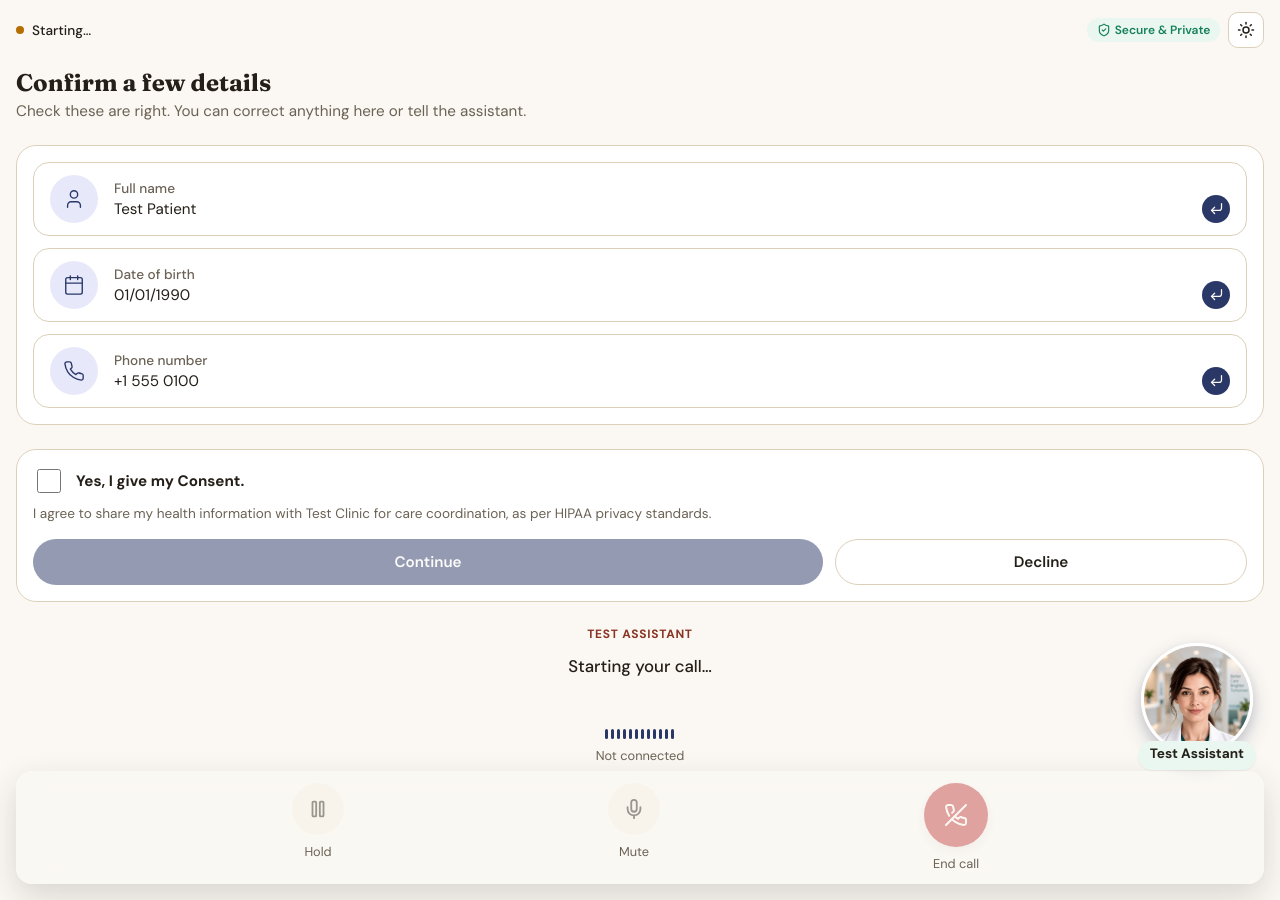
Test case: ConfirmDetails › keeps the patient on this step and explains when consent cannot be recorded
This screenshot has width=1280, height=900.
Click the checkbox labelled "Yes, I give my Consent.": (49, 481) [37,469,61,493]
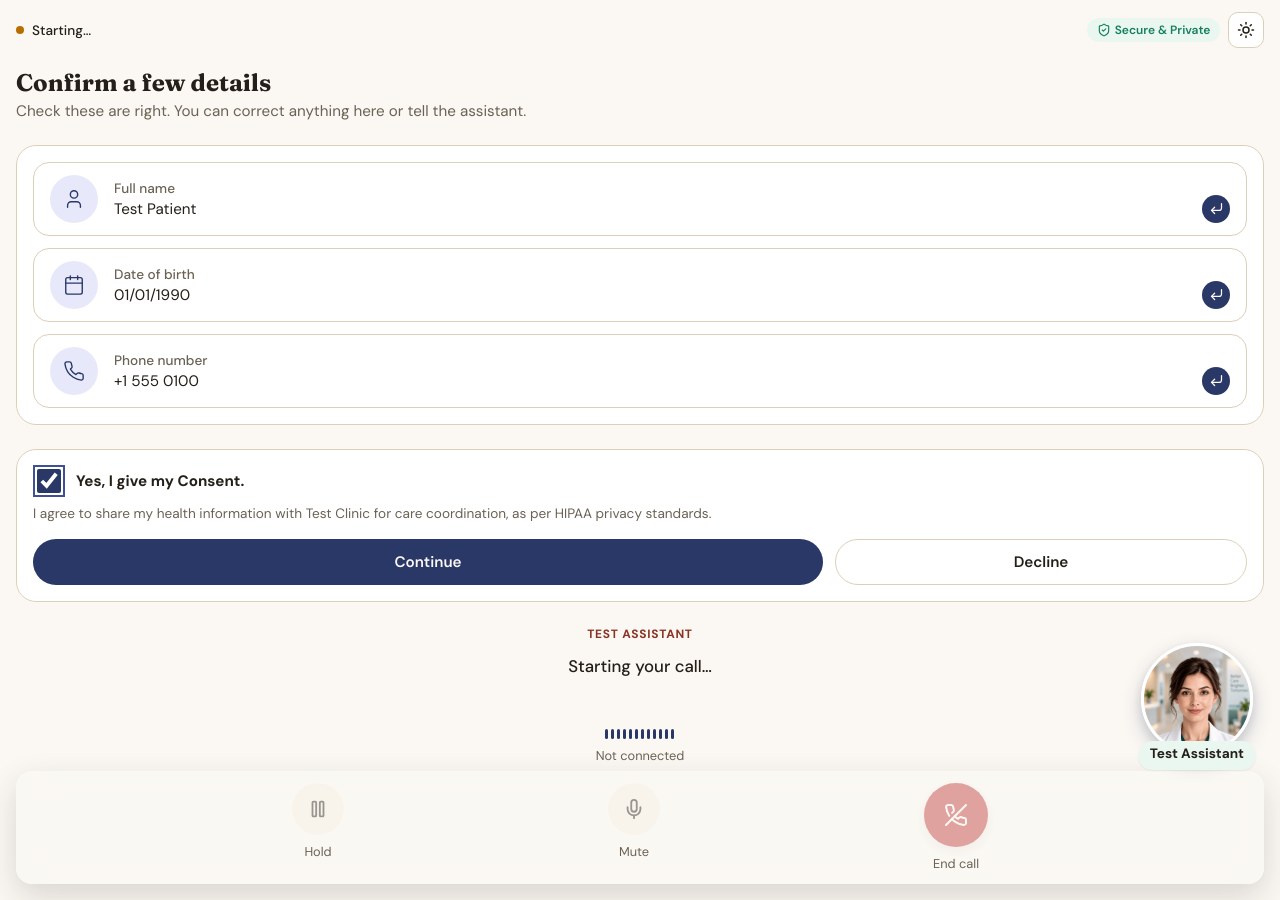
Click the button "Continue": (428, 562) [33,539,823,585]
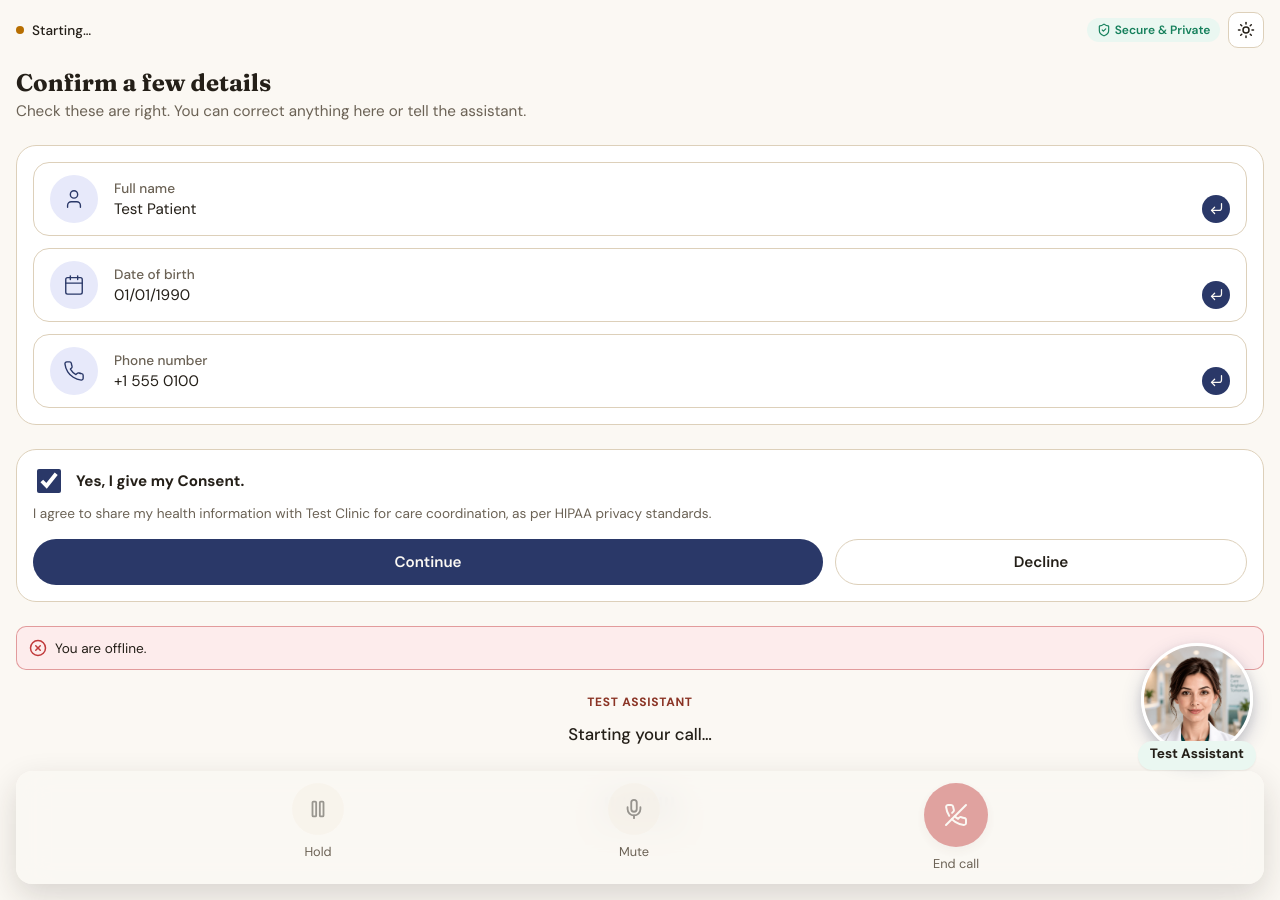
Check: the heading "Confirm a few details" is shown, box [16,68,271,97]
Check: the text "You are offline." is shown, box [55,640,146,656]
